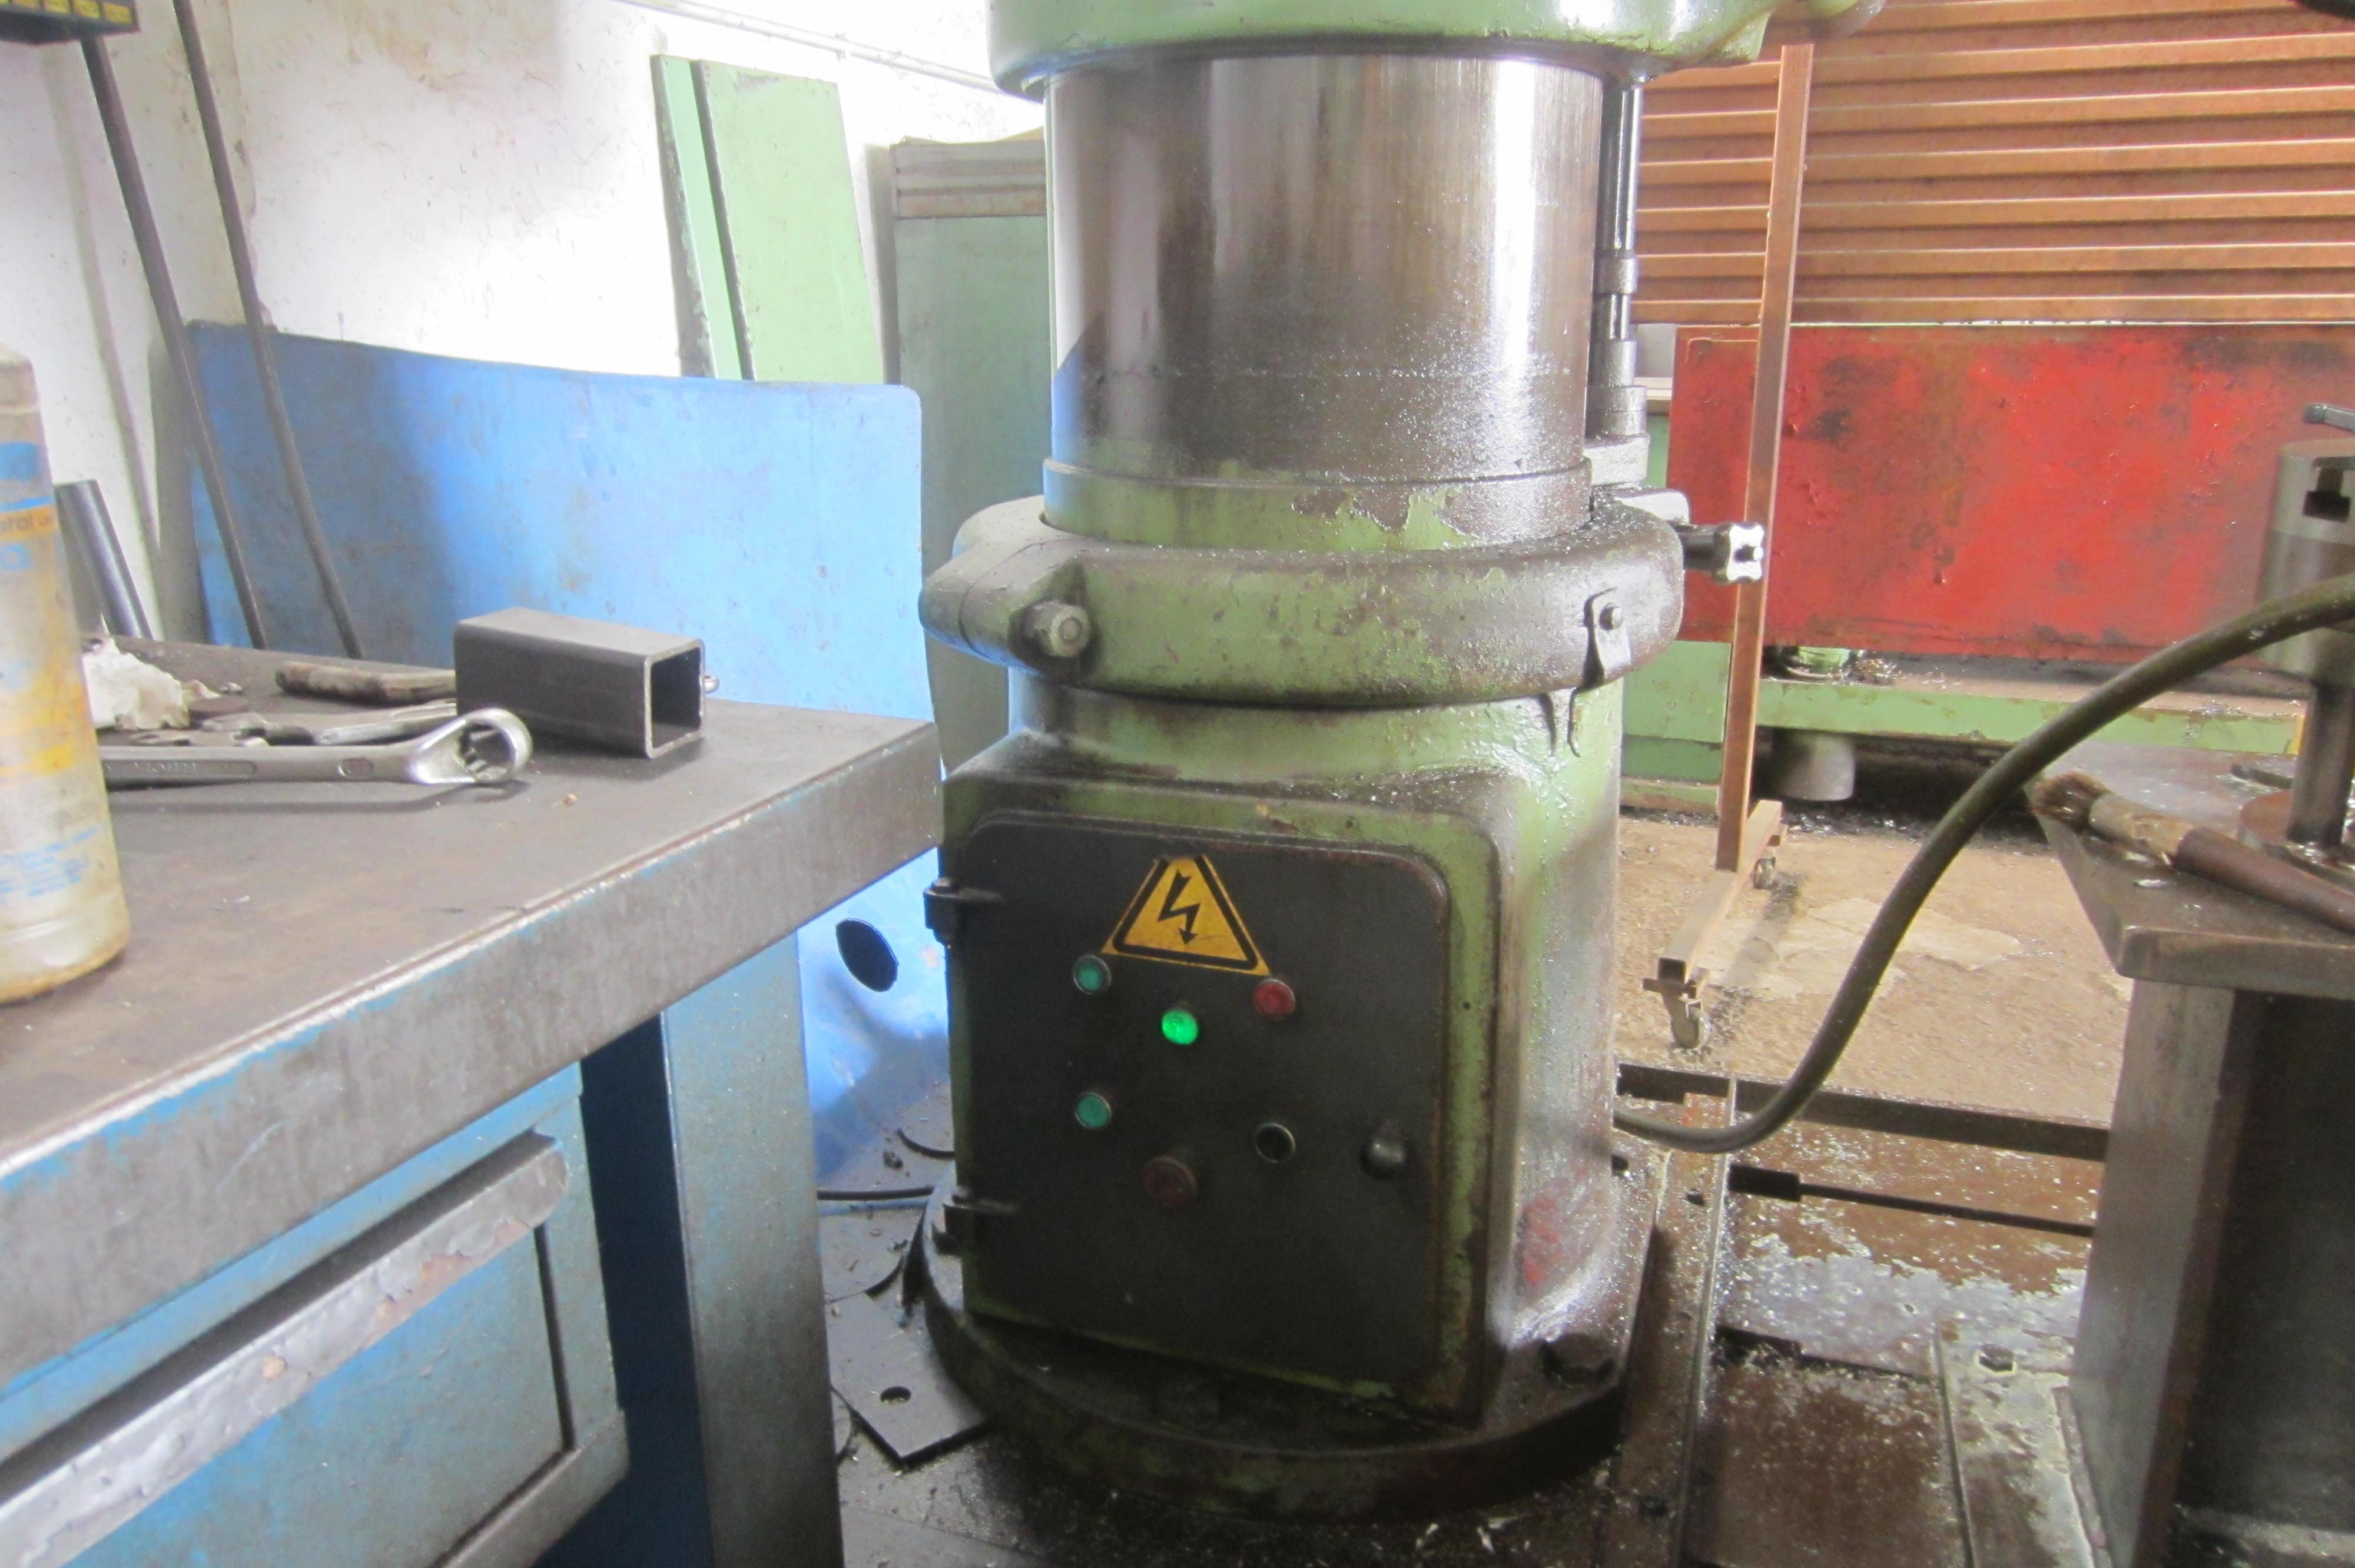mandos_inseguros: (954, 805, 1443, 1241)
